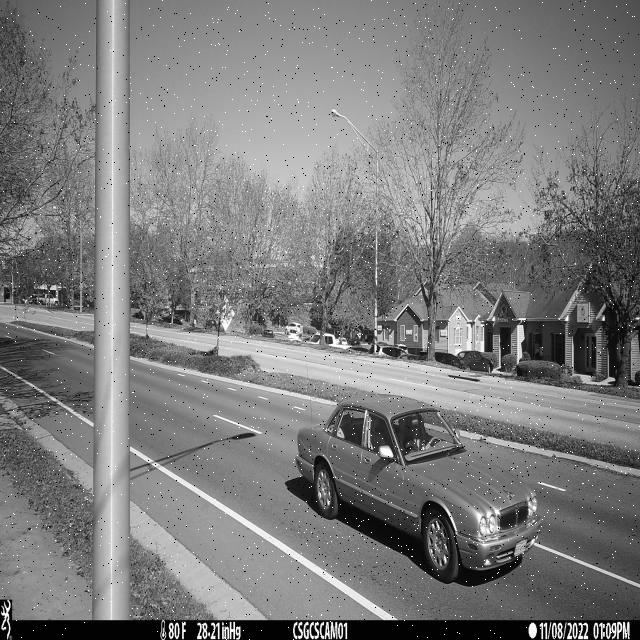Sedan: (296, 395, 545, 584)
